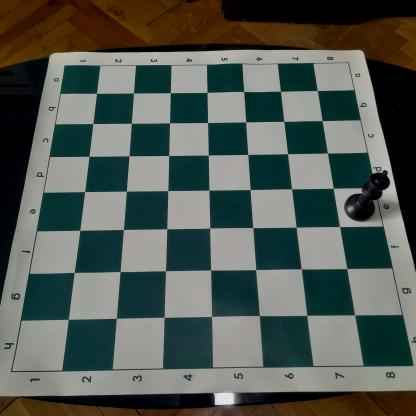black-king: (343, 168, 390, 226)
